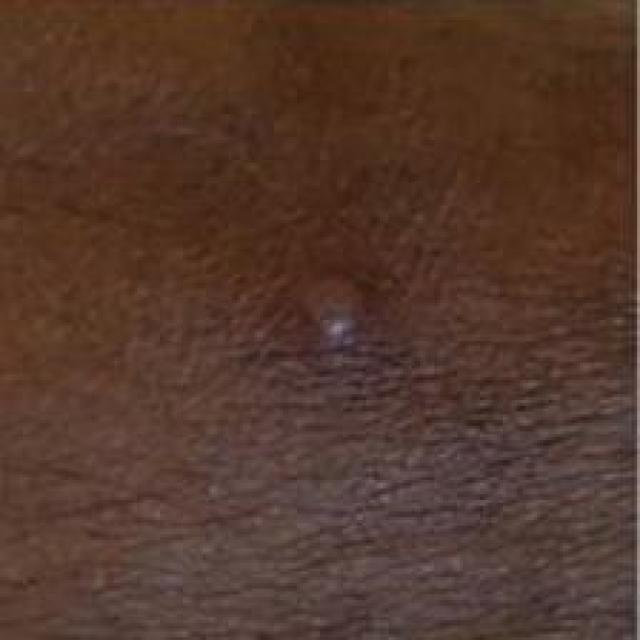monkeypox: (121, 127, 606, 639)
